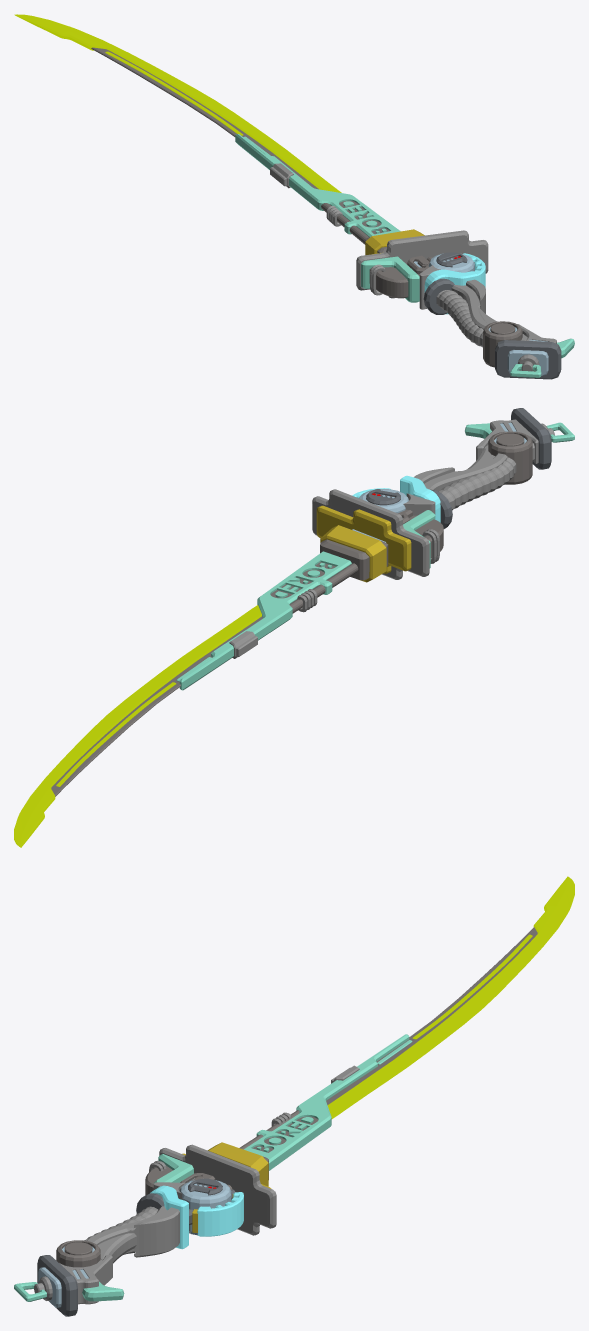
File: remake_616.glb
The picture shows the model from 3 angles, top to bottom: view 1: azimuth 30°, elevation 25°; view 2: azimuth 150°, elevation 25°; view 3: azimuth 330°, elevation 25°; orthographic projection. The views are drawn at different scales.
Visible parts, largest first — view 1: remake_616; view 2: remake_616; view 3: remake_616.
Boxes of the visible parts, bbox=[...] form: remake_616: bbox=[14, 14, 574, 379]; remake_616: bbox=[14, 408, 574, 847]; remake_616: bbox=[14, 876, 574, 1316].
Bounding box in the file's own units: 0.1592 × 0.0742 × 1.19.
